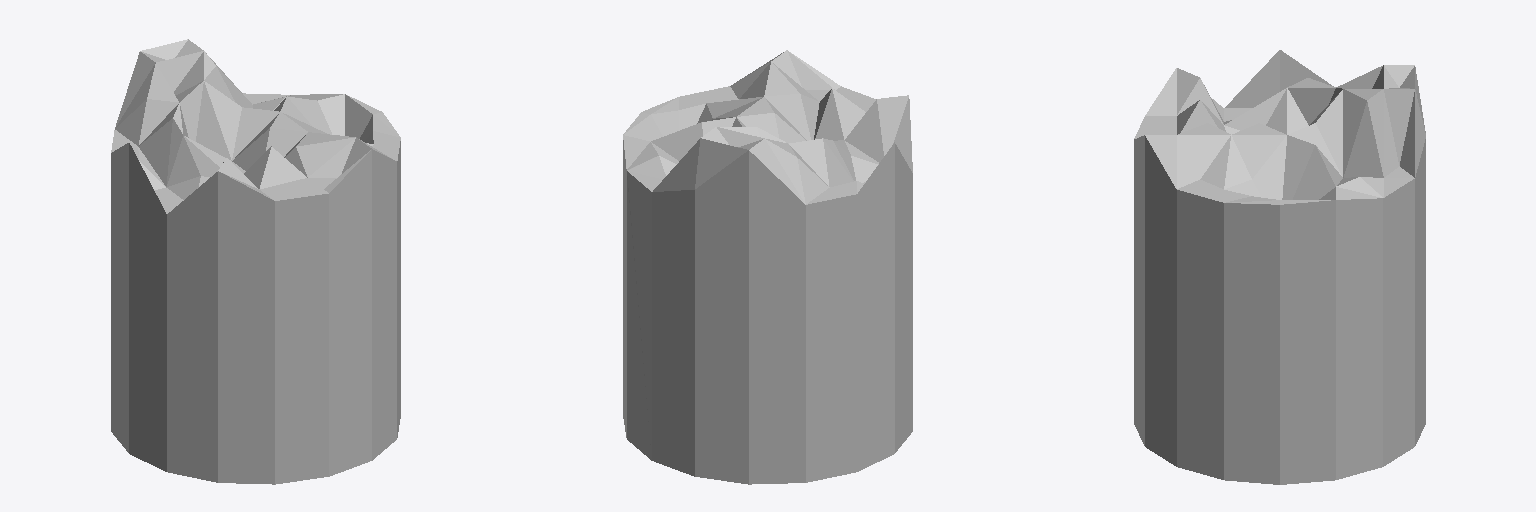
Rendered from cutupcyl.obj.
3 views of the same model, side by side, from view 1: azimuth 30°, elevation 25°; view 2: azimuth 150°, elevation 25°; view 3: azimuth 270°, elevation 25° (orthographic).
Visible parts, largest first — view 1: Cylinder_Cylinder.001; view 2: Cylinder_Cylinder.001; view 3: Cylinder_Cylinder.001.
Part boxes in pixels (left/top/right/bottom): Cylinder_Cylinder.001: left=111, top=39, right=400, bottom=484; Cylinder_Cylinder.001: left=623, top=50, right=912, bottom=484; Cylinder_Cylinder.001: left=1134, top=50, right=1425, bottom=484.
Bounding box in the file's own units: 1.7 × 2.14 × 1.7.